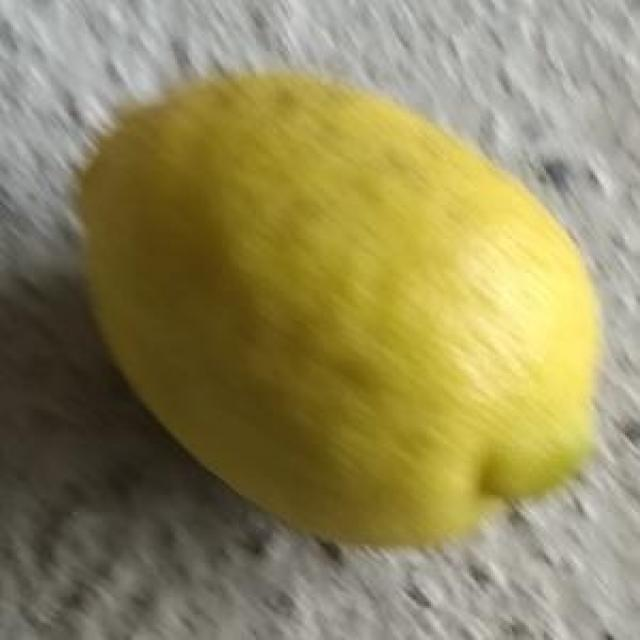lemon: (80, 70, 602, 544)
